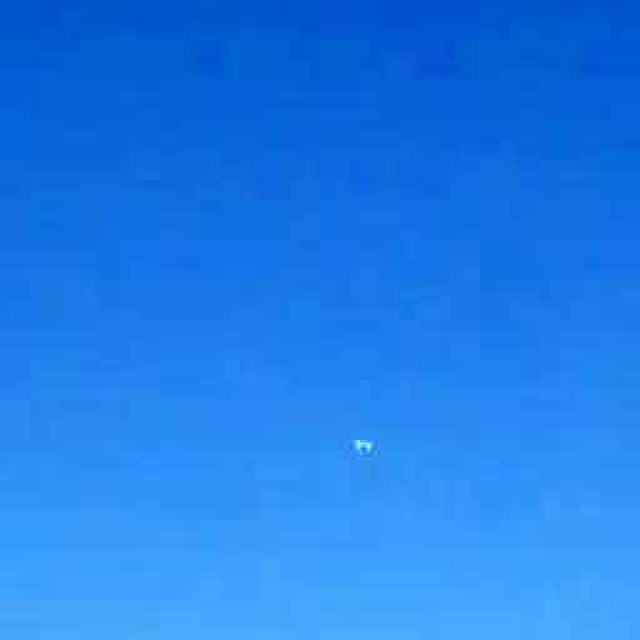bird: (334, 418, 399, 480)
